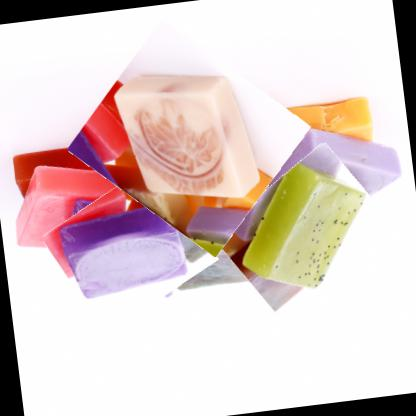soap: (69, 23, 307, 251), (213, 150, 395, 314), (45, 170, 215, 328)
